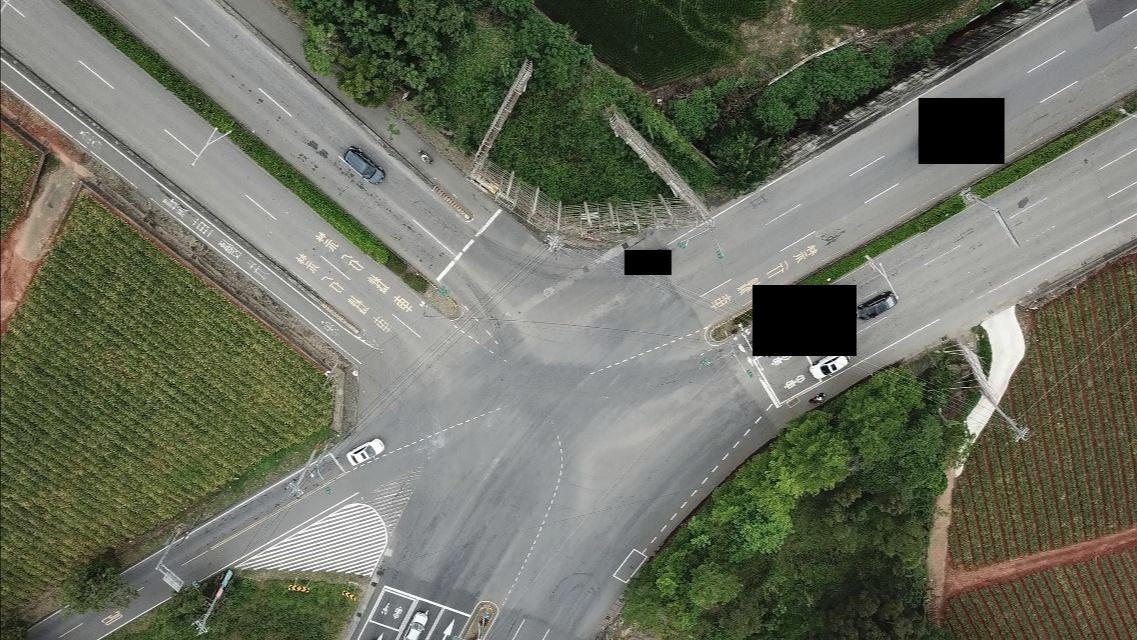vehicle: (343, 146, 384, 186), (808, 349, 850, 381), (856, 292, 897, 322), (345, 438, 384, 467), (403, 610, 430, 639)
